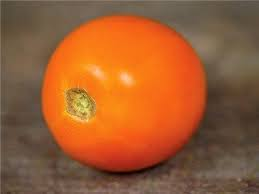tomato: (39, 5, 216, 167)
